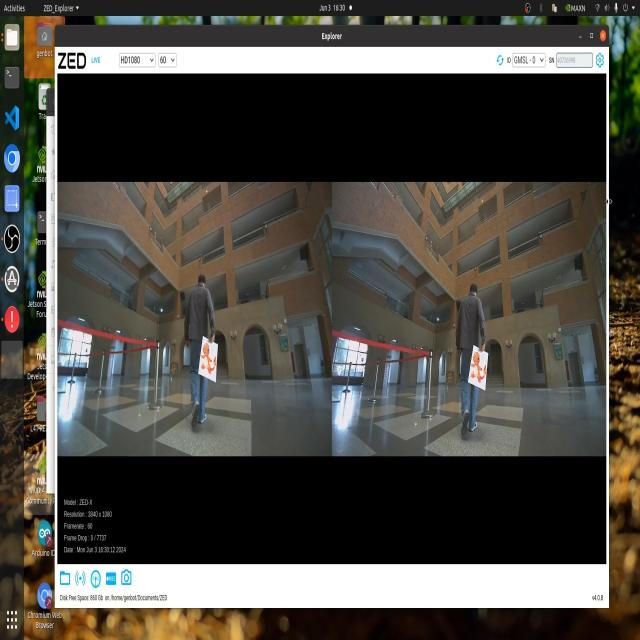red: (197, 337, 220, 384), (469, 346, 489, 389)
